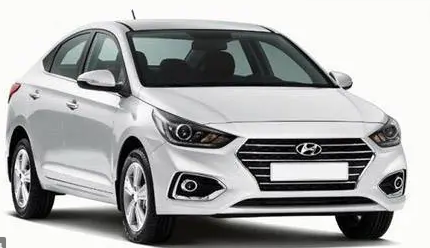car: (4, 16, 407, 248)
